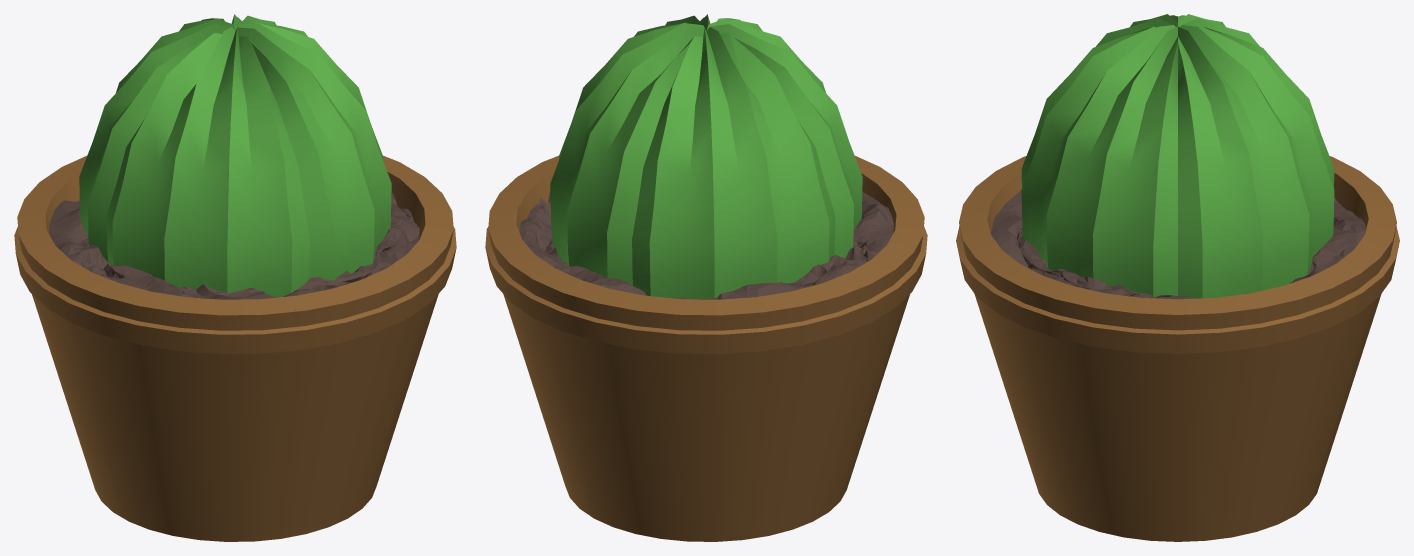
File: cactas.fbx
3 renders of one model, left to right at view 1: azimuth 30°, elevation 25°; view 2: azimuth 150°, elevation 25°; view 3: azimuth 270°, elevation 25°, orthographic.
Visible parts, largest first — view 1: 円柱, 球, 立方体; view 2: 円柱, 球, 立方体; view 3: 円柱, 球, 立方体.
Part boxes in pixels (x1,y1,x2,y2): 円柱: [14, 155, 456, 541]; 球: [79, 14, 391, 297]; 立方体: [48, 192, 419, 299]; 円柱: [485, 155, 927, 541]; 球: [550, 14, 862, 299]; 立方体: [519, 192, 893, 299]; 円柱: [956, 156, 1399, 541]; 球: [1021, 14, 1334, 298]; 立方体: [991, 190, 1366, 299].
Size of the model in its own units: 233 by 266 by 233.
